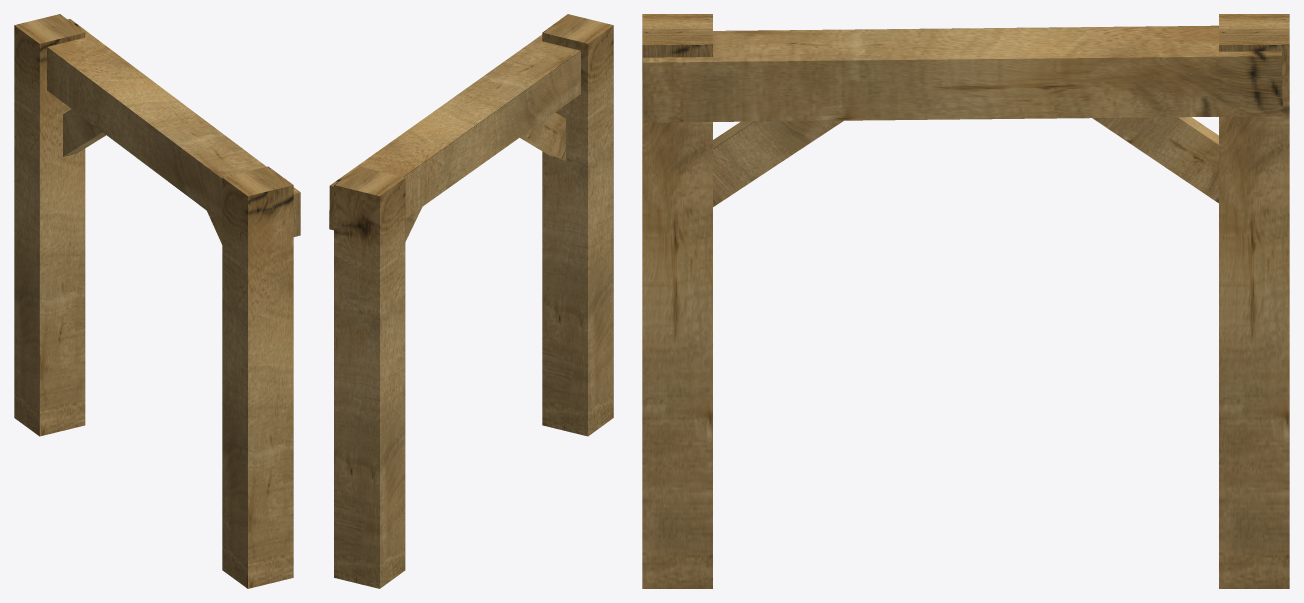
The model's file is Mineshaft_Beams.fbx.
3 views of the same model, side by side, from view 1: azimuth 30°, elevation 25°; view 2: azimuth 150°, elevation 25°; view 3: azimuth 270°, elevation 25° (orthographic). The views are drawn at different scales.
Visible parts, largest first — view 1: MineShaft_Beams; view 2: MineShaft_Beams; view 3: MineShaft_Beams.
Part boxes in pixels (box(x1,y1,x2,y2)): MineShaft_Beams: box(14, 14, 300, 588); MineShaft_Beams: box(329, 14, 613, 588); MineShaft_Beams: box(642, 14, 1289, 588).
Bounding box in the file's own units: 169 × 1192 × 1286.
